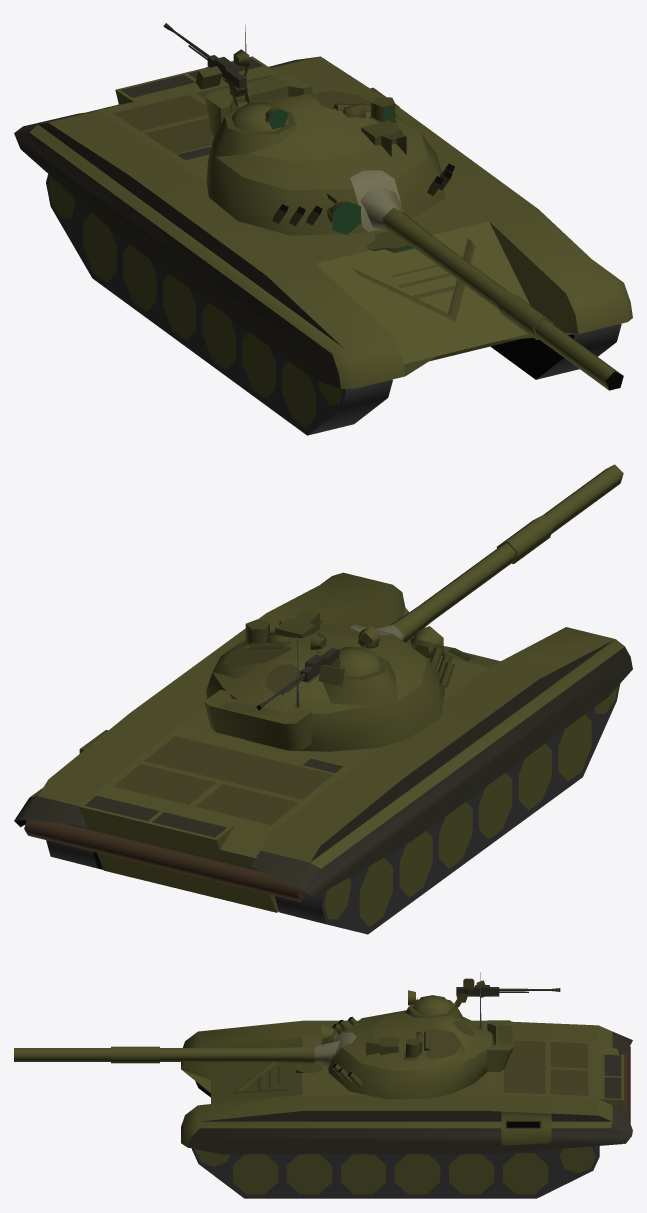
File: car3.glb
The picture shows the model from 3 angles, top to bottom: view 1: azimuth 30°, elevation 25°; view 2: azimuth 150°, elevation 25°; view 3: azimuth 270°, elevation 25°; orthographic projection. The views are drawn at different scales.
Visible parts, largest first — view 1: Body_4, Turret_3, Cannon_0, MG_1, MG_Turret_2; view 2: Body_4, Turret_3, Cannon_0, MG_1, MG_Turret_2; view 3: Body_4, Turret_3, Cannon_0, MG_1, MG_Turret_2.
Part boxes in pixels (box(x1,y1,x2,y2)): Body_4: box(14, 56, 632, 435); Turret_3: box(205, 25, 454, 235); Cannon_0: box(327, 184, 623, 390); MG_1: box(163, 23, 249, 97); MG_Turret_2: box(230, 89, 288, 132); Body_4: box(14, 572, 632, 934); Turret_3: box(204, 608, 454, 751); Cannon_0: box(375, 464, 623, 659); MG_1: box(256, 632, 344, 710); MG_Turret_2: box(337, 625, 381, 676); Body_4: box(181, 1020, 632, 1198); Turret_3: box(328, 972, 513, 1099); Cannon_0: box(14, 1024, 347, 1066); MG_1: box(456, 978, 560, 1002); MG_Turret_2: box(408, 990, 463, 1015).
Size of the model in its own units: 3.59 by 3.12 by 9.66.
Materials: 1 (1 with a texture image).
